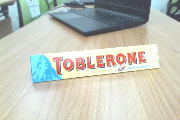Chocolate: (23, 38, 161, 86)
